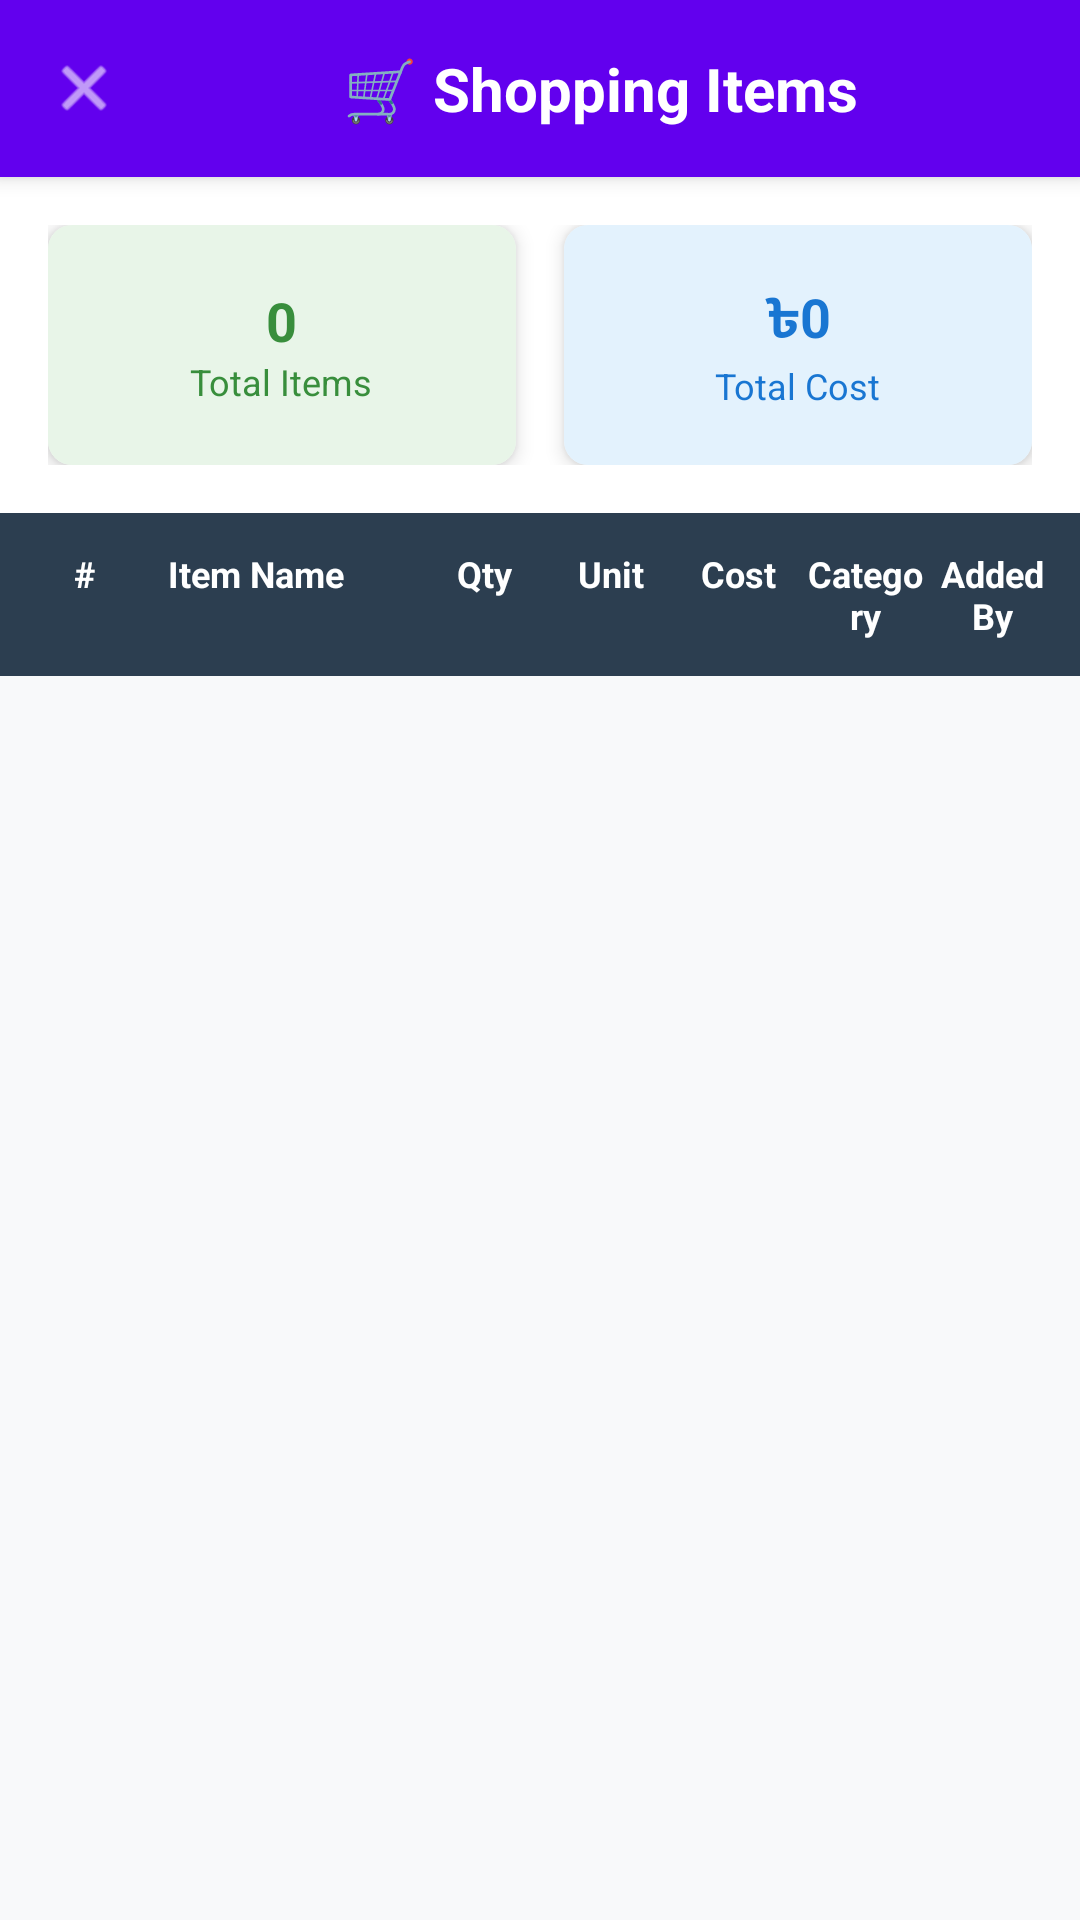

Where icons sit on this 1080×1920 app screen, as (x1, y1, x2, y2):
close clear cancel: (61, 65, 107, 111)
